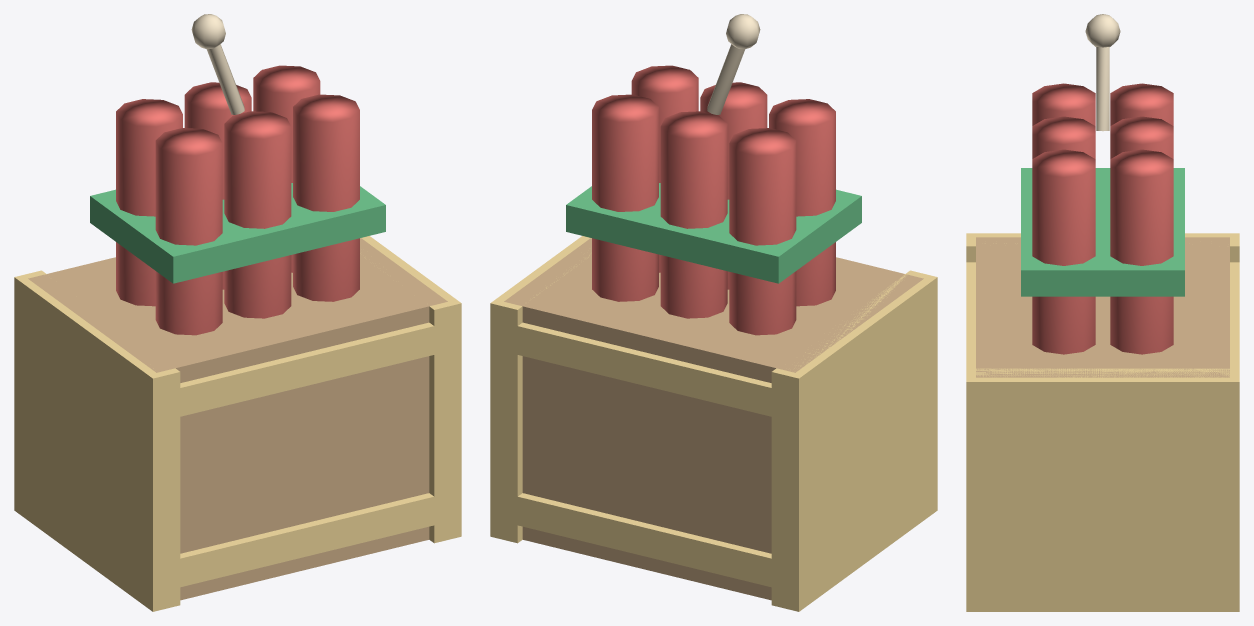
Rendered from MinecartMayhemTNT.glb.
3 renders of one model, left to right at view 1: azimuth 30°, elevation 25°; view 2: azimuth 150°, elevation 25°; view 3: azimuth 270°, elevation 25°, orthographic.
Visible parts, largest first — view 1: Slats, Crate, Sticks, Band, Fuse; view 2: Slats, Crate, Sticks, Band, Fuse; view 3: Slats, Sticks, Crate, Band, Fuse.
Boxes of the visible parts, x1=… form: Slats: x1=14, y1=236, x2=461, y2=611; Crate: x1=28, y1=238, x2=447, y2=600; Sticks: x1=116, y1=65, x2=359, y2=335; Band: x1=90, y1=183, x2=385, y2=283; Fuse: x1=191, y1=14, x2=244, y2=114; Slats: x1=490, y1=236, x2=937, y2=611; Crate: x1=504, y1=238, x2=923, y2=600; Sticks: x1=592, y1=65, x2=835, y2=335; Band: x1=566, y1=183, x2=861, y2=283; Fuse: x1=707, y1=14, x2=760, y2=114; Slats: x1=966, y1=233, x2=1239, y2=611; Sticks: x1=1032, y1=83, x2=1173, y2=354; Crate: x1=976, y1=237, x2=1229, y2=377; Band: x1=1021, y1=168, x2=1184, y2=296; Fuse: x1=1085, y1=14, x2=1120, y2=131.
Bounding box in the file's own units: 1.8 × 2.87 × 1.4.
